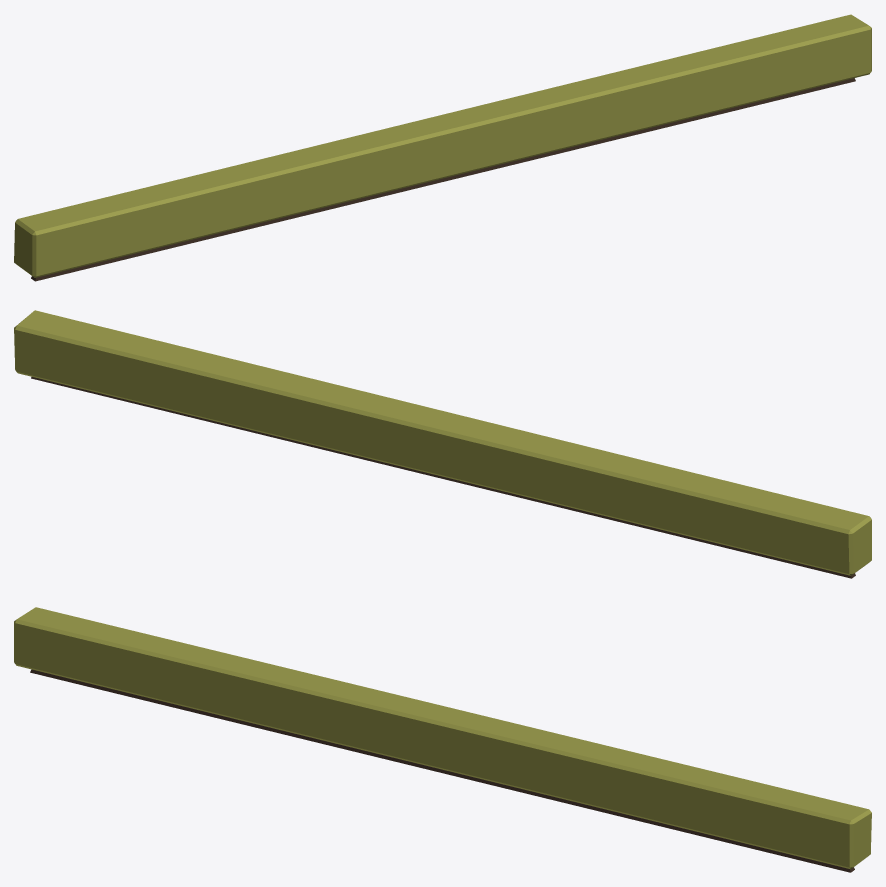
Rendered from Hedge1_d_LP_LOD0.FBX.
The picture shows the model from 3 angles, top to bottom: view 1: azimuth 30°, elevation 25°; view 2: azimuth 150°, elevation 25°; view 3: azimuth 330°, elevation 25°; orthographic projection.
Parts seen in each view (by area): view 1: Hedge1_d_LP_LOD0; view 2: Hedge1_d_LP_LOD0; view 3: Hedge1_d_LP_LOD0.
Boxes of the visible parts, x1,y1,x2,y2 form: Hedge1_d_LP_LOD0: [14, 14, 871, 281]; Hedge1_d_LP_LOD0: [14, 310, 871, 578]; Hedge1_d_LP_LOD0: [14, 607, 871, 872].
Bounding box in the file's own units: 27.13 × 1.81 × 1.19.
